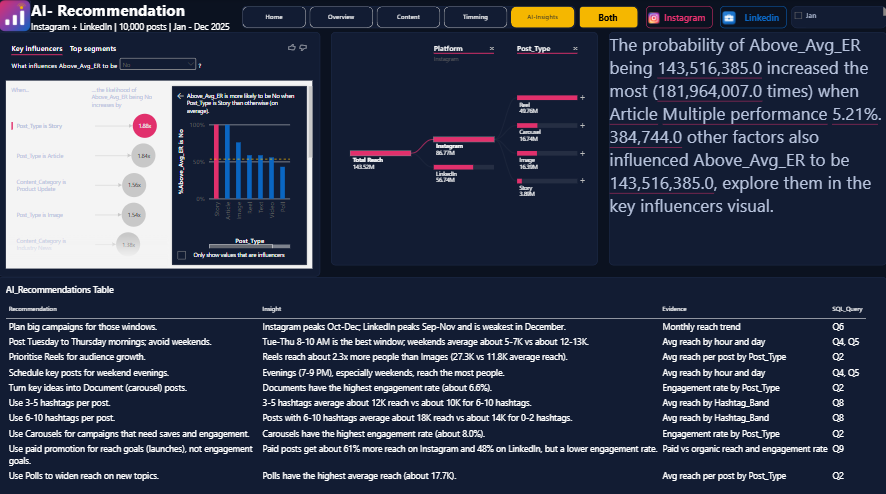

The dashboard page shown, as its layout file describes it:
{"tool":"powerbi","page":{"name":"AI-Insights","canvas":[1920,1080],"ordinal":4},"visuals":[{"type":"image","box":[0,0,72,72],"z":0},{"type":"textbox","title":"AI- Recommendation","box":[72,0,448,80],"z":1000},{"type":"pageNavigator","box":[528,16,720,48],"z":2000},{"type":"actionButton","box":[1256,16,128,48],"z":3000},{"type":"actionButton","box":[1400,16,144,48],"z":4000},{"type":"actionButton","box":[1560,16,144,48],"z":5000},{"type":"slicer","fields":{"Values":["Dim_Date.Month"]},"box":[1712,16,208,48],"z":6000},{"type":"keyDriversVisual","fields":{"ExplainBy":["Posts.Post_Type","Posts.Content_Category","Posts.Hashtag_Band","Posts.Time_Band","Dim_Date.Day","Posts.Paid_Promotion","Posts.Platform"],"Target":["Posts.Above_Avg_ER"]},"box":[0,72,696,528],"z":7000},{"type":"decompositionTreeVisual","fields":{"Analyze":["_Measures.Total Reach"],"ExplainBy":["Posts.Platform","Posts.Post_Type","Posts.Content_Category"]},"box":[720,72,576,504],"z":8000},{"type":"textbox","box":[1320,72,600,504],"z":9000},{"type":"tableEx","title":"AI_Recommendations Table","fields":{"Values":["AI_Recommendations.Recommendation","AI_Recommendations.Insight","AI_Recommendations.Evidence","AI_Recommendations.SQL_Query"]},"box":[0,600,1920,480],"z":10000}]}

Visuals, with their boxes in screenshot pixels (x1, y1, x2, y2), scaled from the page's 1920x1080 canvas onto the 886x494 screenshot:
image: rect(0, 0, 33, 33)
"AI- Recommendation" textbox: rect(33, 0, 240, 37)
pageNavigator: rect(244, 7, 576, 29)
actionButton: rect(580, 7, 639, 29)
actionButton: rect(646, 7, 712, 29)
actionButton: rect(720, 7, 786, 29)
slicer - Dim_Date.Month: rect(790, 7, 885, 29)
keyDriversVisual - Posts.Post_Type x Posts.Content_Category: rect(0, 33, 321, 274)
decompositionTreeVisual - _Measures.Total Reach x Posts.Platform: rect(332, 33, 598, 263)
textbox: rect(609, 33, 885, 263)
"AI_Recommendations Table" tableEx: rect(0, 274, 885, 493)
